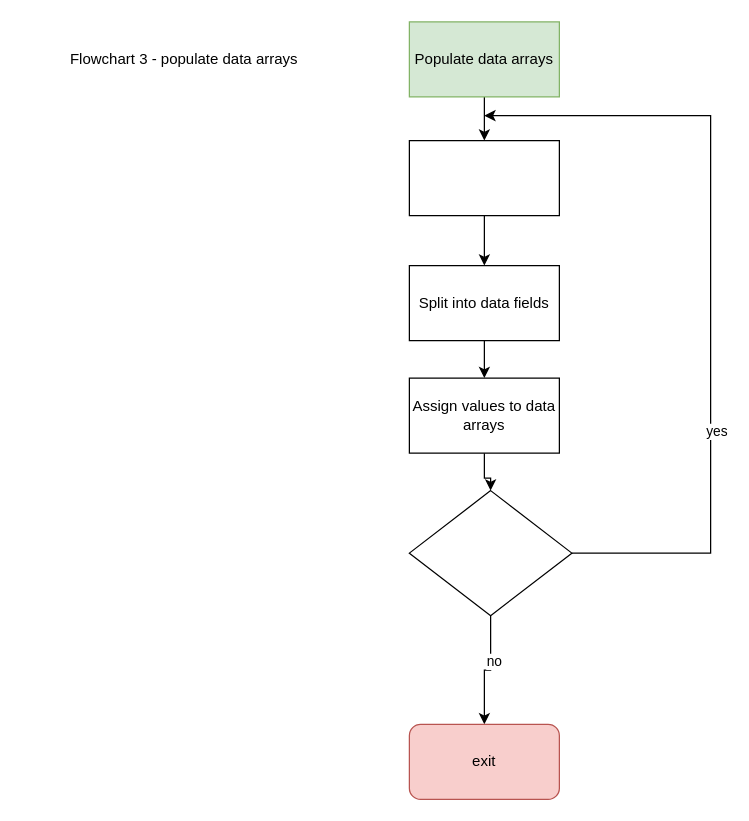
This 749x821 diagram has some shape labels left out. Each missing label, with the centre of its shape:
Another product?: the point at 490,552
Skip headline: the point at 483,177
